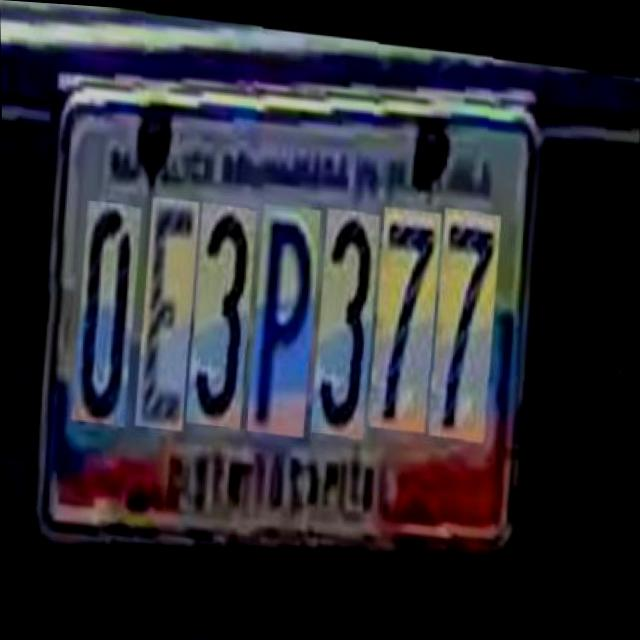0: (76, 197, 147, 424)
3: (314, 196, 385, 427), (190, 196, 262, 422)
7: (432, 191, 507, 426), (372, 192, 447, 419)
e: (139, 190, 205, 426)
p: (250, 193, 325, 428)
